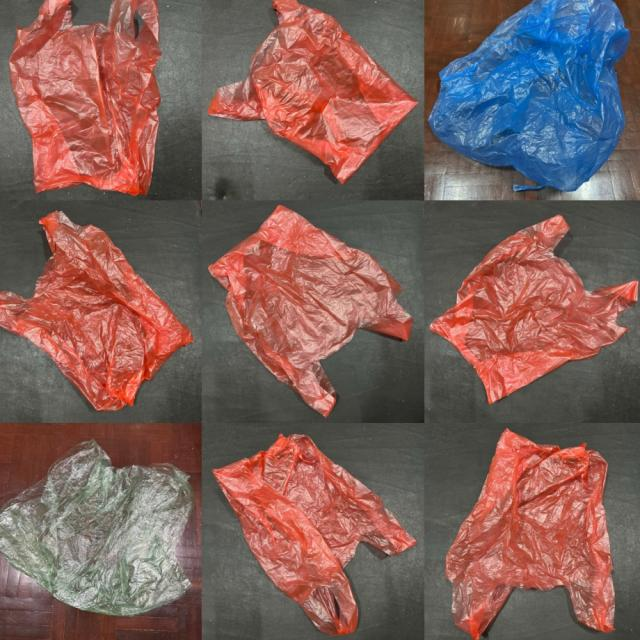plastik: (209, 206, 412, 417), (213, 434, 416, 634), (429, 215, 638, 403), (0, 211, 193, 411), (429, 0, 630, 191), (209, 0, 417, 183), (446, 430, 614, 638), (0, 439, 194, 616), (9, 0, 160, 195)
